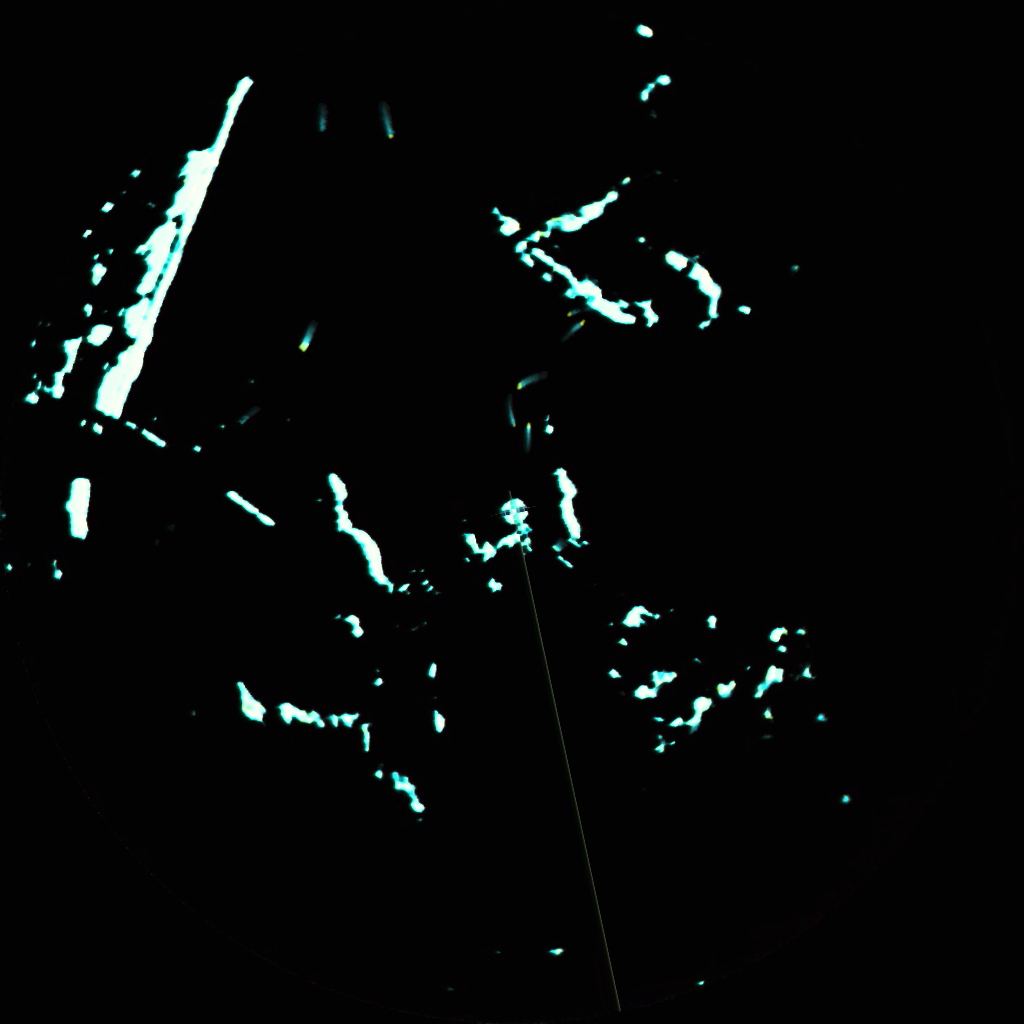B: (515, 373, 545, 386), (299, 328, 312, 350), (565, 323, 584, 338), (383, 112, 393, 138), (505, 403, 513, 428), (237, 411, 254, 422), (525, 426, 532, 450), (563, 308, 579, 316), (555, 544, 567, 552), (318, 117, 324, 129)
